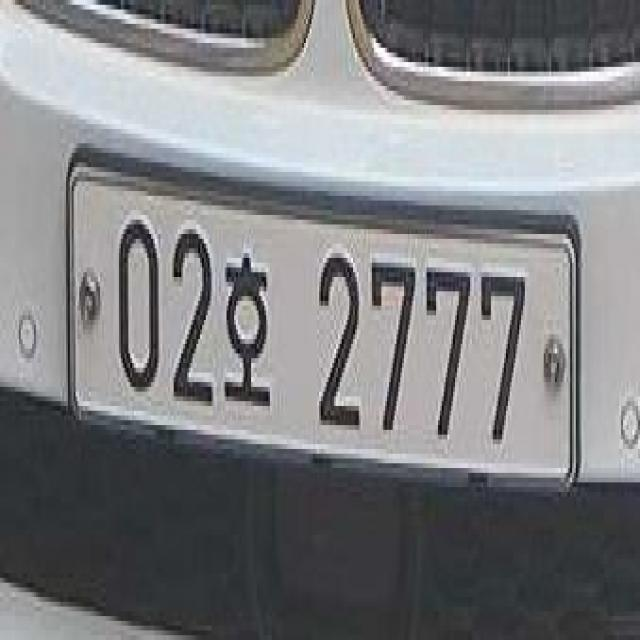illegal_plate: (67, 142, 585, 514)
